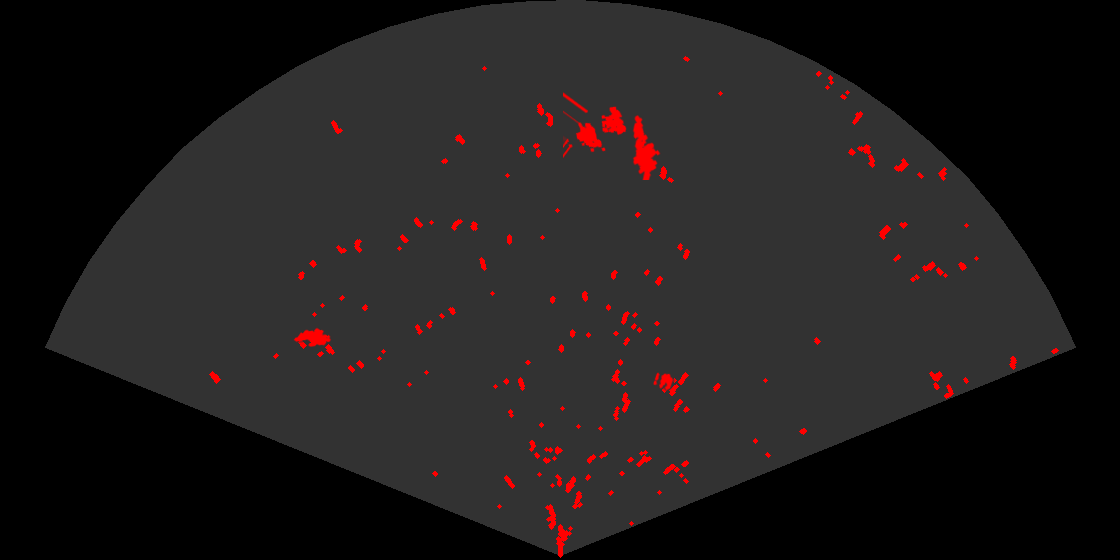AUV: (292, 326, 333, 348)
ball: (652, 371, 675, 392)
cage: (563, 91, 628, 160)
frogman: (631, 114, 662, 180)
